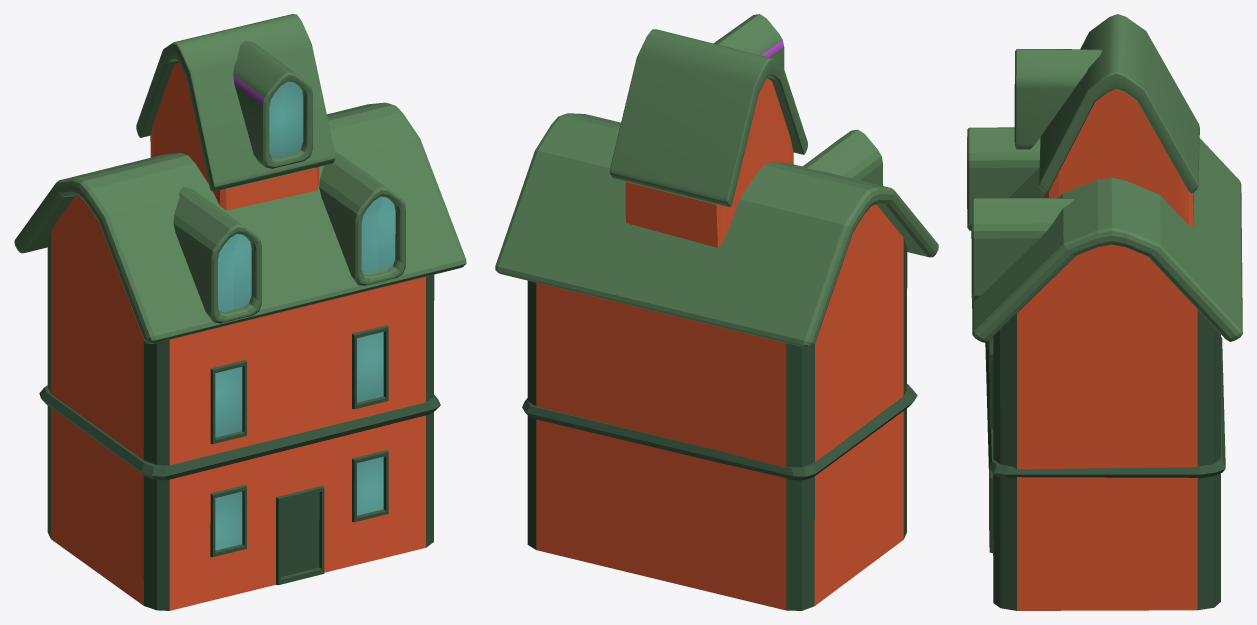
Rendered from SM_House_15.fbx.
3 renders of one model, left to right at view 1: azimuth 30°, elevation 25°; view 2: azimuth 150°, elevation 25°; view 3: azimuth 270°, elevation 25°, orthographic.
Visible parts, largest first — view 1: SM_House_15; view 2: SM_House_15; view 3: SM_House_15.
Boxes of the visible parts, bbox=[...] form: SM_House_15: bbox=[14, 14, 466, 610]; SM_House_15: bbox=[495, 14, 938, 610]; SM_House_15: bbox=[967, 14, 1242, 610].
Bounding box in the file's own units: 762 × 1142 × 571.
